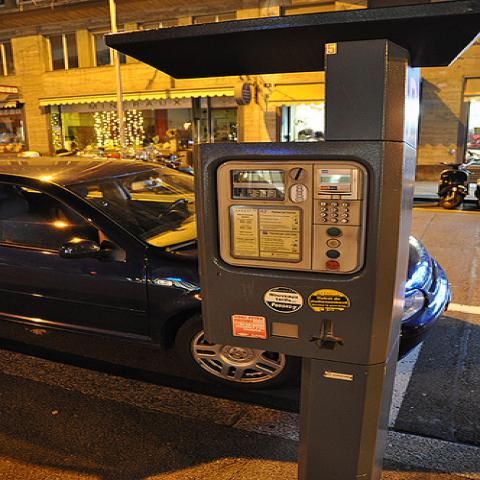car: (0, 156, 452, 390)
motorcycle: (439, 162, 476, 209)
